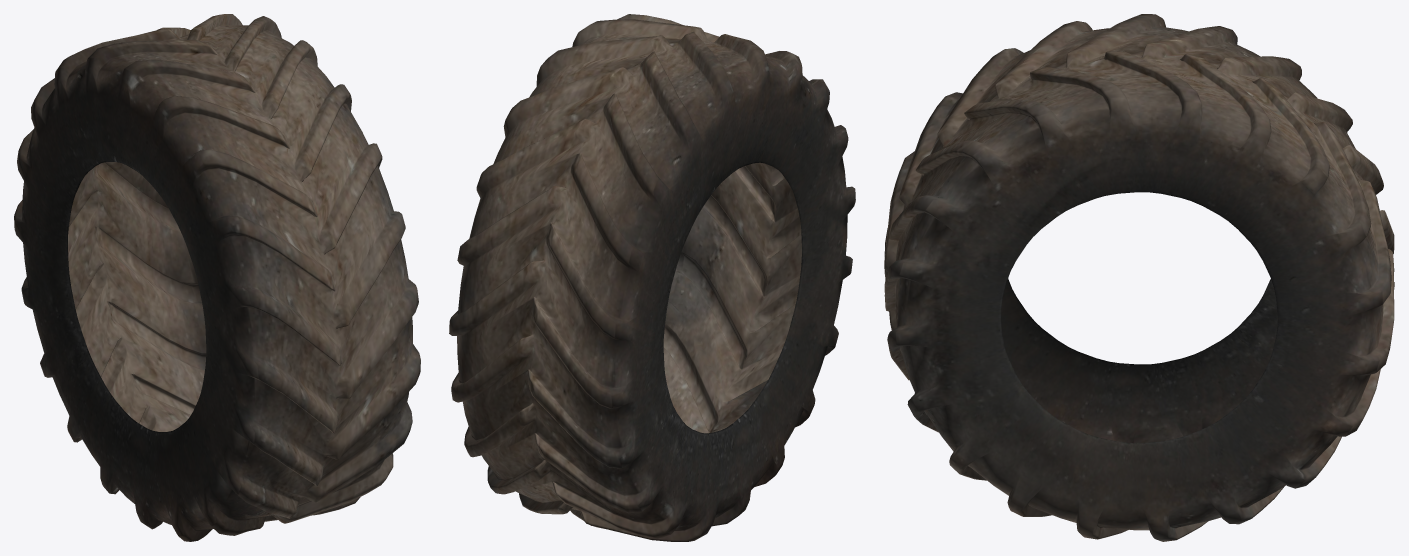
The model's file is FrontTire.gltf.
3 views of the same model, side by side, from view 1: azimuth 30°, elevation 25°; view 2: azimuth 150°, elevation 25°; view 3: azimuth 270°, elevation 25° (orthographic).
Parts seen in each view (by area): view 1: AM115_026_67; view 2: AM115_026_67; view 3: AM115_026_67.
Boxes of the visible parts, x1,y1,x2,y2 form: AM115_026_67: [14, 14, 420, 541]; AM115_026_67: [449, 14, 855, 541]; AM115_026_67: [884, 14, 1394, 541].
Size of the model in its own units: 0.557 by 1.43 by 1.43.
1 material, 1 textured.
